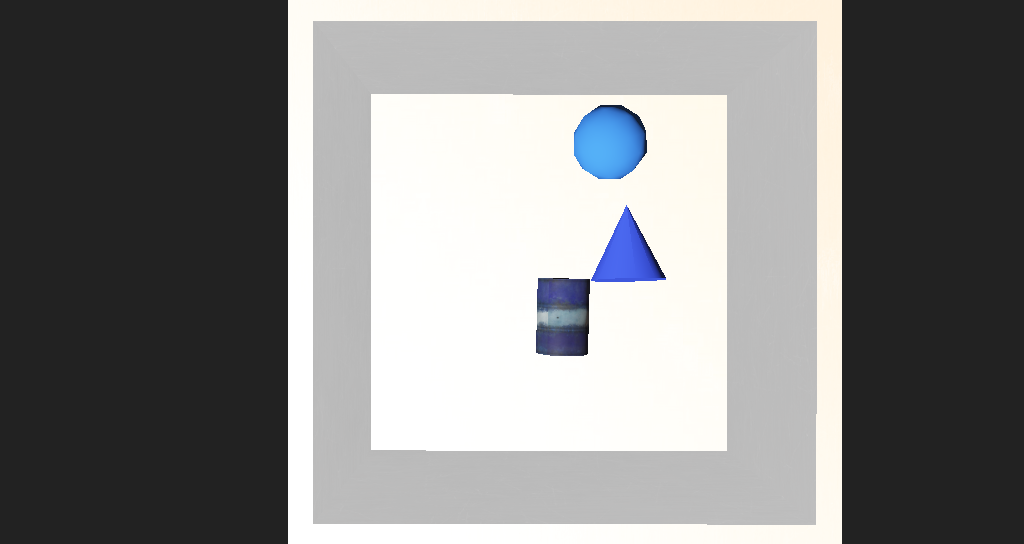cone: (495, 272, 542, 320)
cylinder: (539, 224, 606, 272)
sphere: (529, 167, 589, 215)
